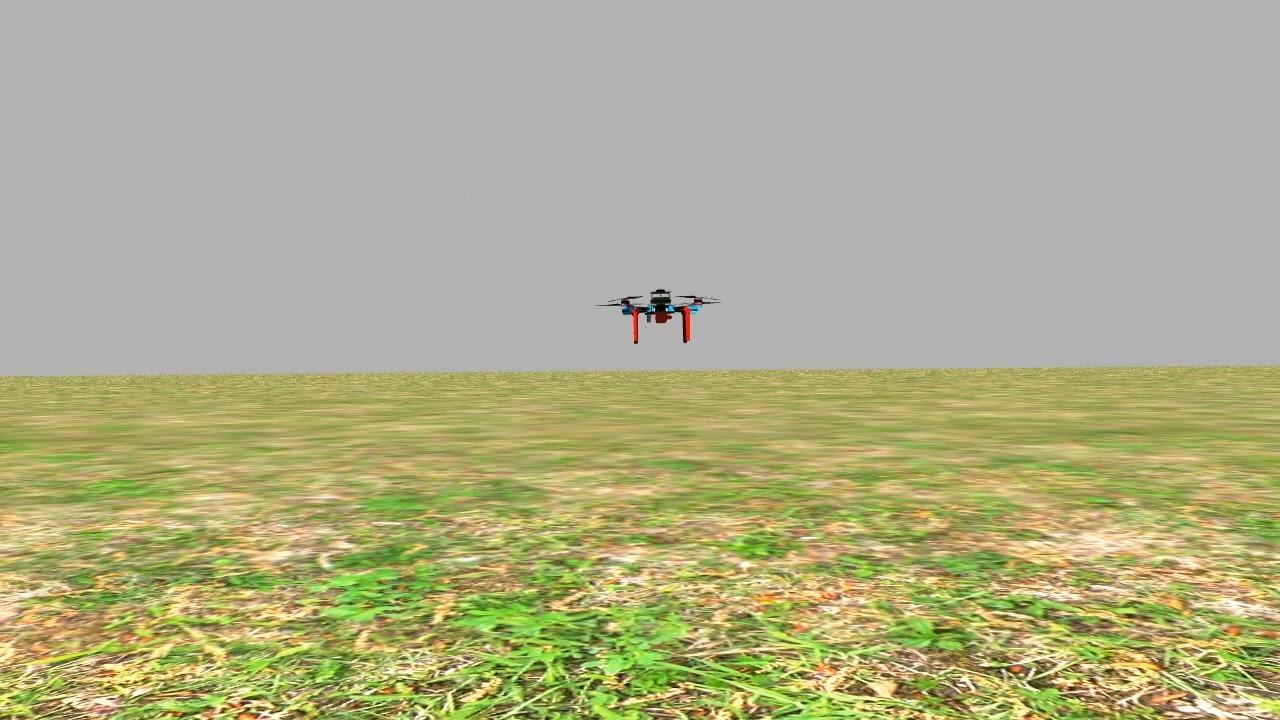UAV: (594, 281, 729, 353)
